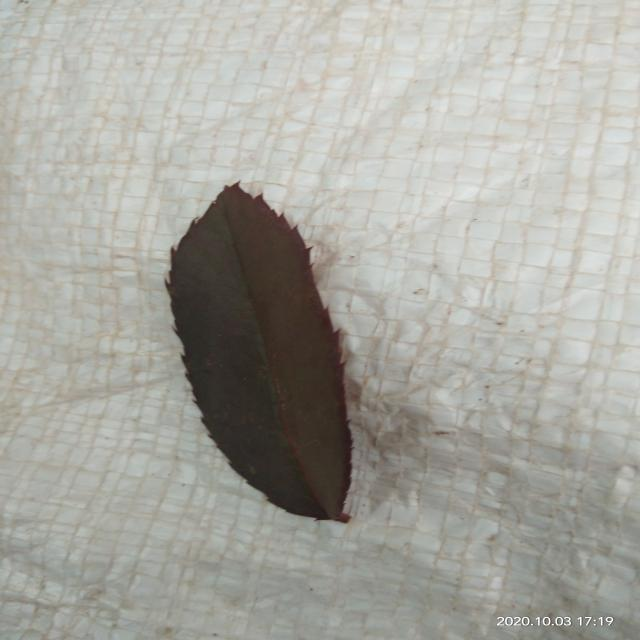rose: (167, 184, 352, 522)
